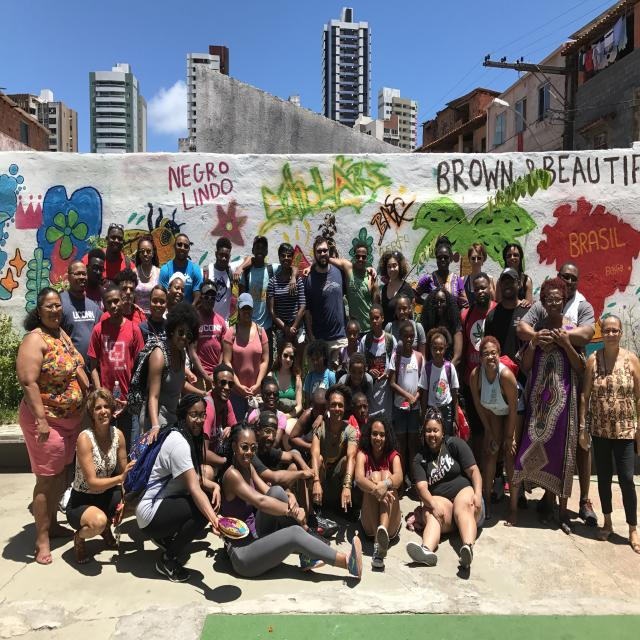body: (218, 418, 365, 580), (514, 261, 598, 527), (14, 285, 92, 567), (122, 389, 233, 586), (509, 275, 589, 535), (577, 314, 640, 556), (460, 272, 532, 472), (405, 406, 486, 572), (64, 386, 138, 566), (248, 410, 339, 547), (484, 266, 530, 511), (469, 335, 527, 527), (87, 284, 145, 464), (302, 236, 376, 370), (136, 300, 201, 446), (238, 235, 300, 377), (301, 240, 382, 343), (353, 412, 404, 572), (58, 258, 105, 431), (308, 382, 358, 523), (388, 318, 425, 502), (222, 292, 271, 422), (200, 236, 255, 331), (266, 242, 306, 372), (356, 302, 398, 423), (417, 326, 461, 438), (187, 279, 228, 397), (414, 234, 470, 318), (198, 363, 238, 470), (247, 375, 290, 471), (266, 341, 302, 452), (158, 233, 204, 312), (288, 387, 330, 472), (420, 287, 464, 368), (81, 223, 137, 285), (135, 285, 172, 369), (384, 294, 426, 366), (380, 249, 416, 331), (98, 266, 146, 326), (131, 233, 162, 322), (495, 242, 534, 310), (460, 241, 497, 308), (302, 338, 336, 410), (337, 351, 374, 405), (83, 247, 107, 313), (348, 391, 369, 449), (162, 271, 186, 320), (338, 318, 361, 368)
